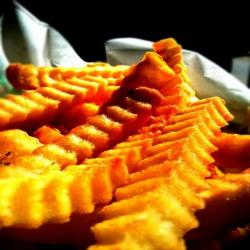fries: (9, 60, 247, 246)
